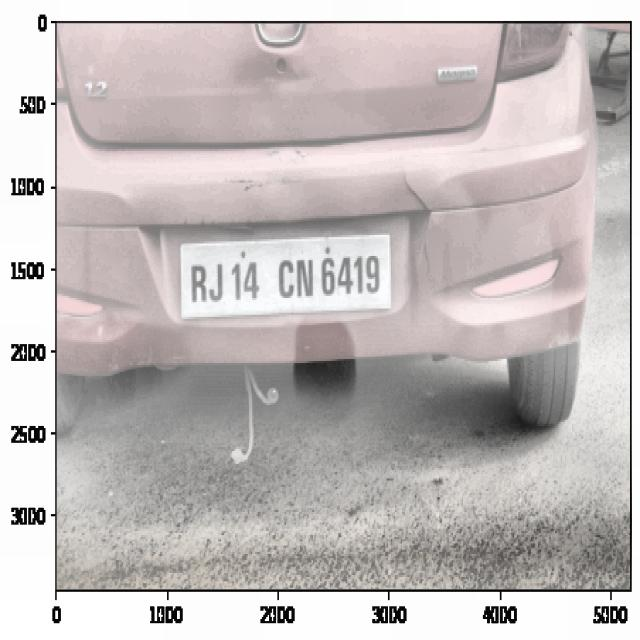license_plate: (187, 245, 388, 319)
